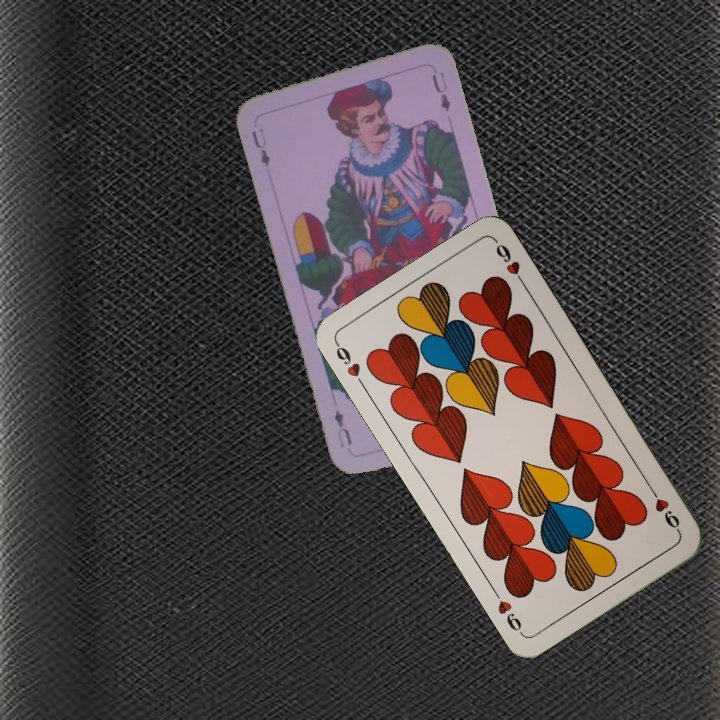EU: (247, 124, 273, 175)
H9: (331, 338, 369, 392), (645, 483, 683, 536)
